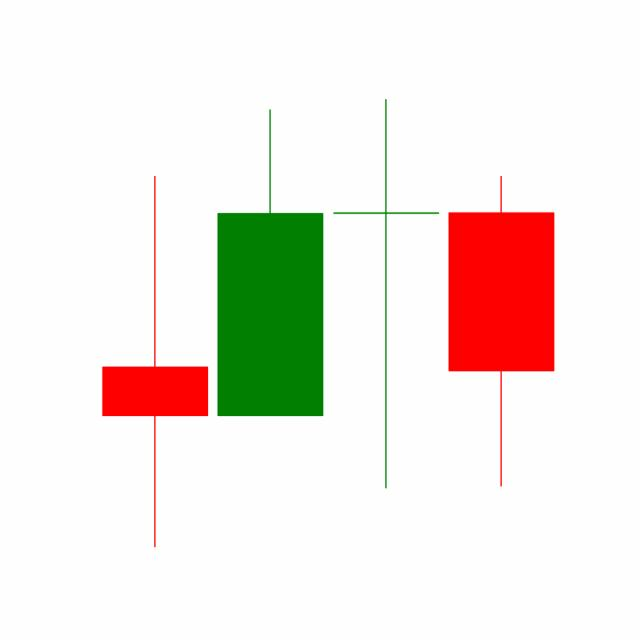Spinning Top: (328, 95, 444, 493)
